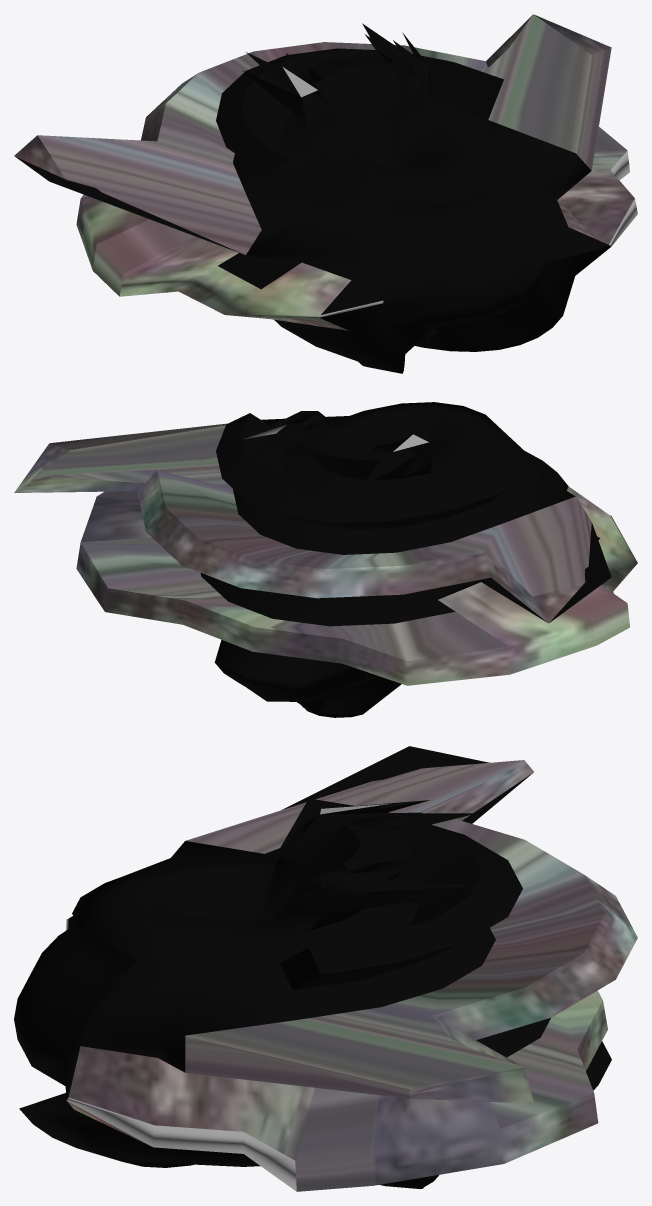
File: MetalShip_Carrier.fbx
3 renders of one model, top to bottom at view 1: azimuth 30°, elevation 25°; view 2: azimuth 150°, elevation 25°; view 3: azimuth 270°, elevation 25°, orthographic. The views are drawn at different scales.
Visible parts, largest first — view 1: Carrier; view 2: Carrier; view 3: Carrier.
Boxes of the visible parts, bbox=[...] form: Carrier: bbox=[14, 14, 637, 373]; Carrier: bbox=[14, 402, 637, 717]; Carrier: bbox=[14, 746, 637, 1191].
Bounding box in the file's own units: 2982 × 2255 × 1361.
Materials: 4 (1 with a texture image).
